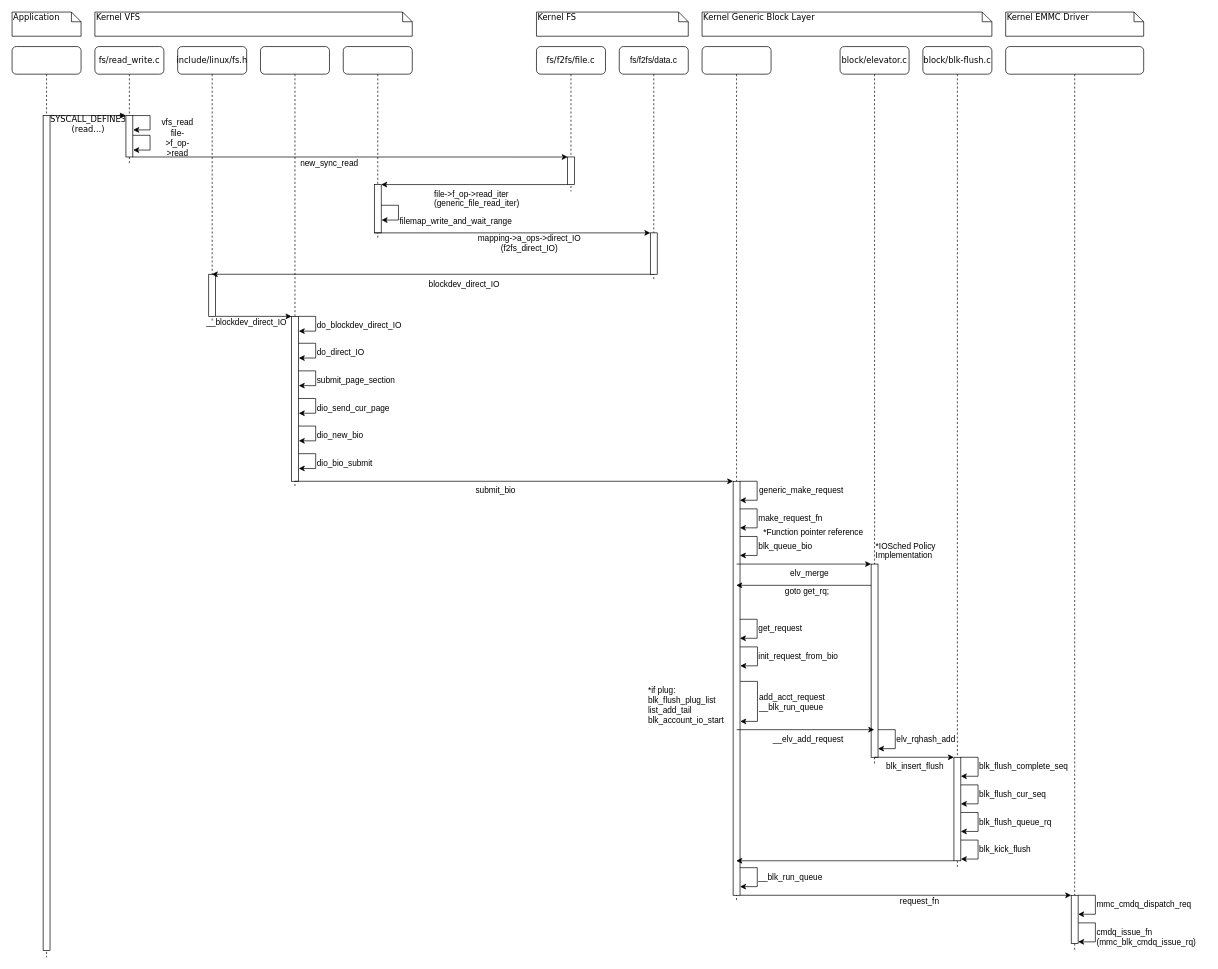
The diagram is 1218 pixels wide and 969 high, and some of its shapes have lost their labels. Each missing label, with the box of its shape:
block/blk-core.c: (701, 46, 771, 902)
drivers/mmc/card/queue.c: (1005, 46, 1144, 950)
fs/direct-io.c: (260, 46, 329, 488)
mm/filemap.c: (343, 46, 412, 240)
read: (11, 46, 81, 957)
